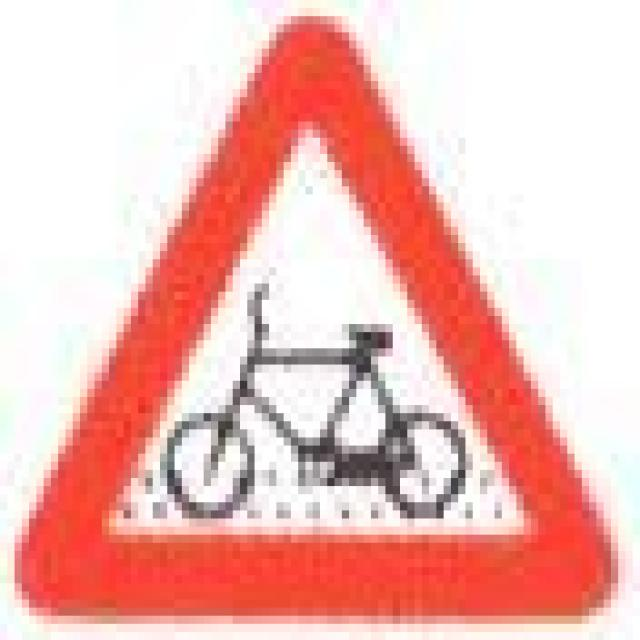CYCLE_CROSSING: (28, 13, 616, 630)
